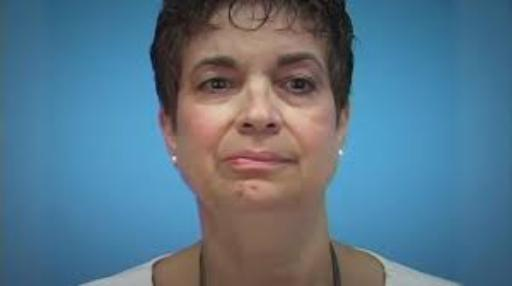left_eye: (278, 79, 321, 95)
left_lip_corner: (284, 157, 304, 169)
right_eye: (194, 79, 238, 94)
right_lip_corner: (219, 156, 233, 167)
